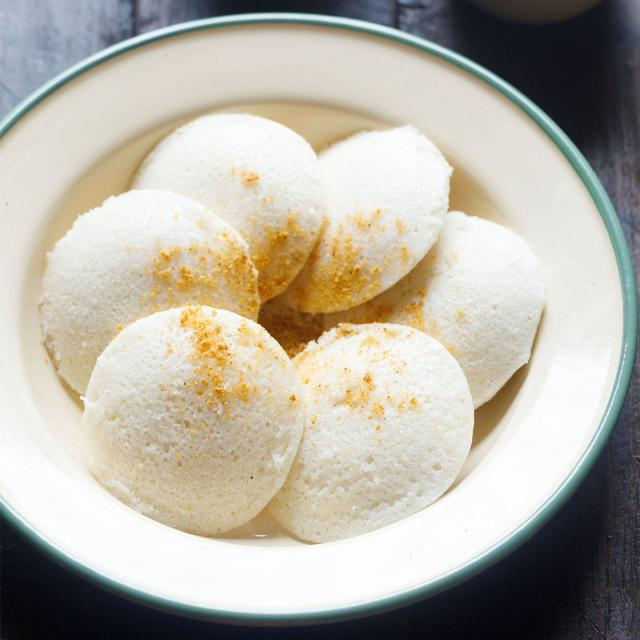idli: (77, 305, 306, 542), (43, 189, 269, 409), (256, 318, 474, 543), (333, 212, 540, 412), (130, 114, 324, 308), (276, 134, 451, 310)
